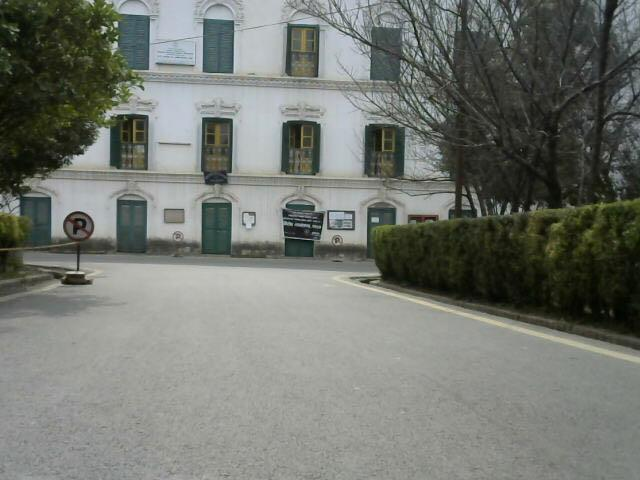Building: (118, 21, 434, 269)
Road: (0, 276, 459, 480), (470, 327, 610, 480)
Tree: (431, 4, 636, 208), (375, 207, 640, 299), (0, 0, 113, 200)
